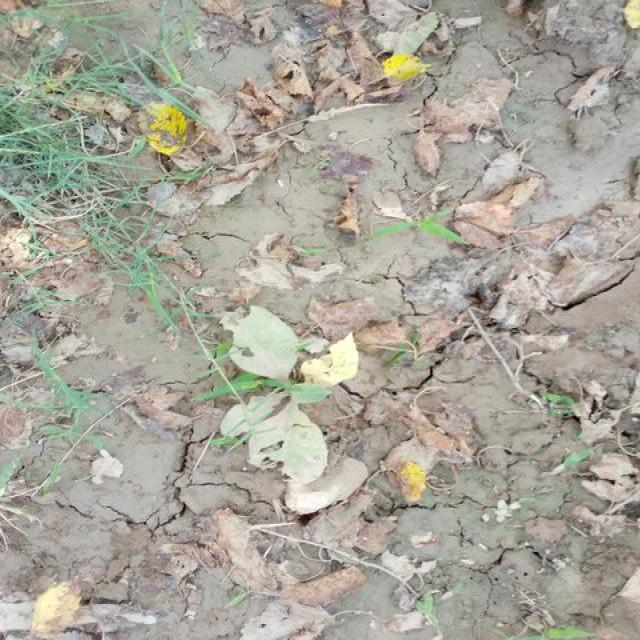crop: (230, 314, 352, 492)
